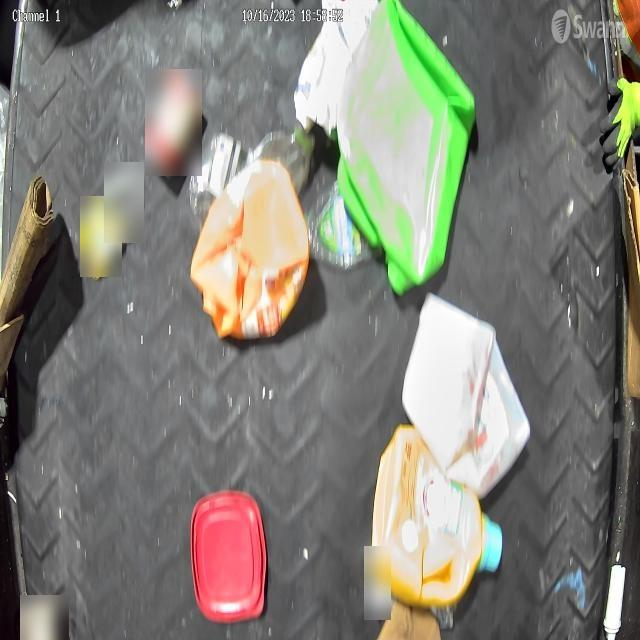milk_jug: (402, 292, 530, 500)
non_white_jug: (337, 0, 476, 297), (370, 424, 503, 608), (190, 156, 310, 342)
plastic_bottle: (308, 179, 382, 272), (250, 124, 316, 194)
